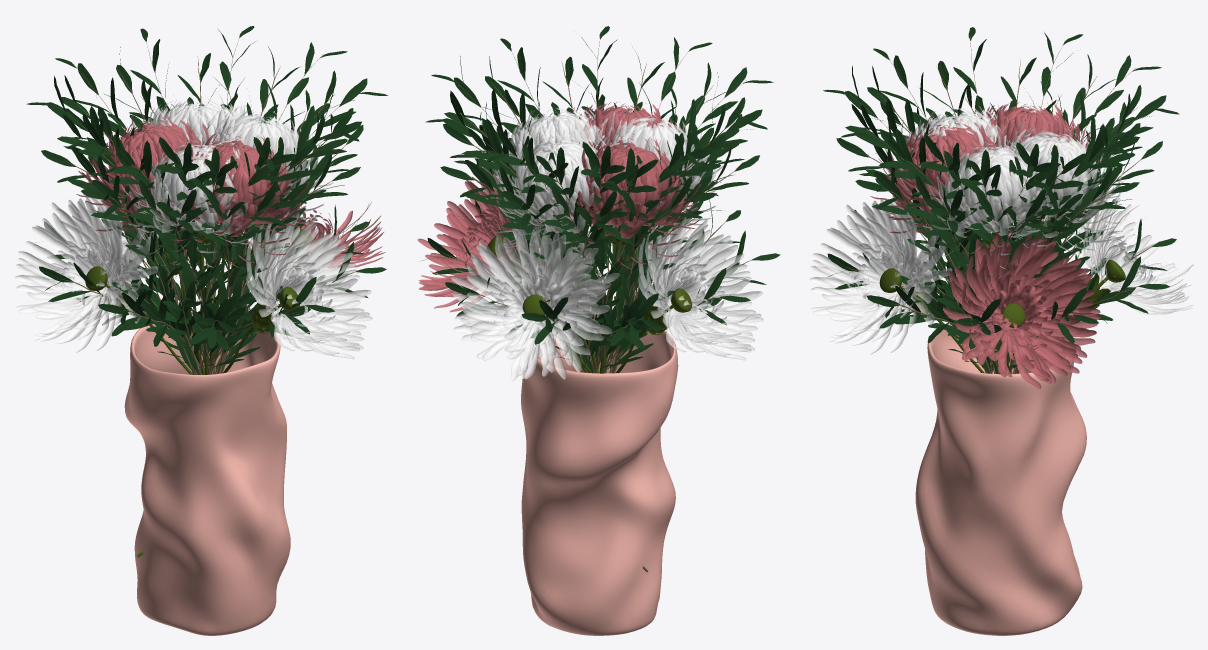
File: bouquet_1735037487446.glb
The picture shows the model from 3 angles, left to right: view 1: azimuth 30°, elevation 25°; view 2: azimuth 150°, elevation 25°; view 3: azimuth 270°, elevation 25°; orthographic projection.
Size of the model in its own units: 1.97 by 3 by 1.97.
